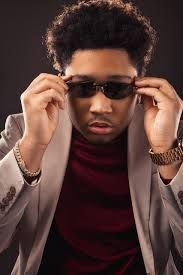no-mask: (55, 40, 149, 147)
